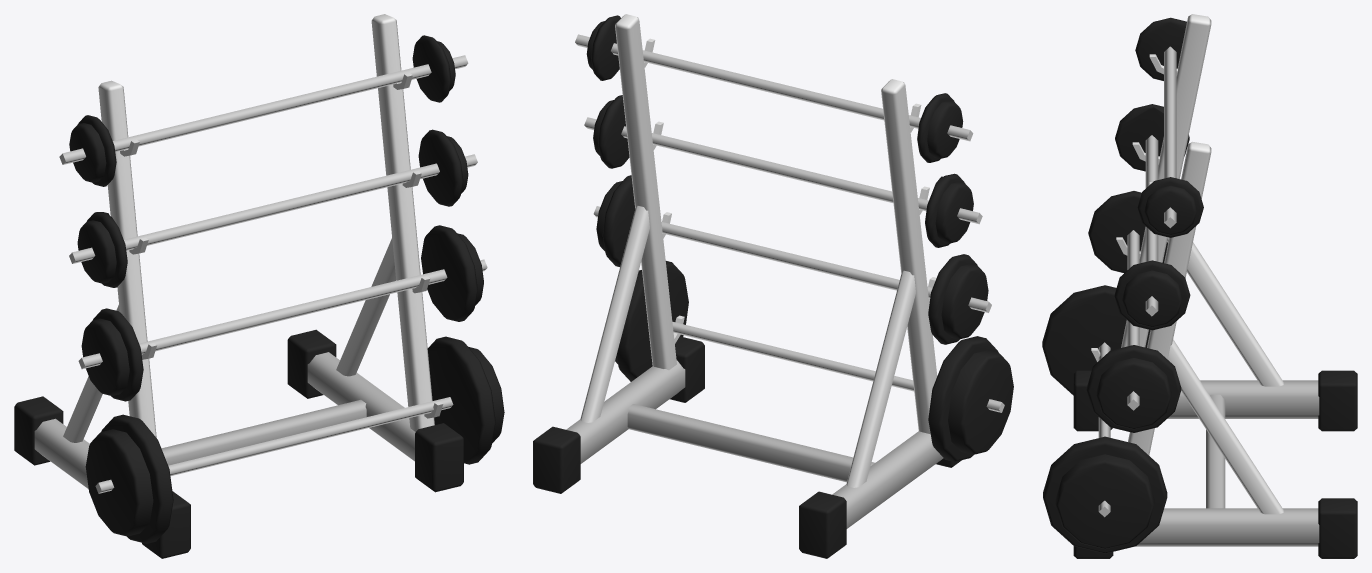
Rendered from training_013.fbx.
3 views of the same model, side by side, from view 1: azimuth 30°, elevation 25°; view 2: azimuth 150°, elevation 25°; view 3: azimuth 270°, elevation 25° (orthographic). The views are drawn at different scales.
Visible parts, largest first — view 1: training_013; view 2: training_013; view 3: training_013.
Boxes of the visible parts, x1,y1,x2,y2 form: training_013: (14, 14, 504, 558); training_013: (533, 14, 1013, 558); training_013: (1042, 14, 1357, 558).
Size of the model in its own units: 171 by 121 by 173.
